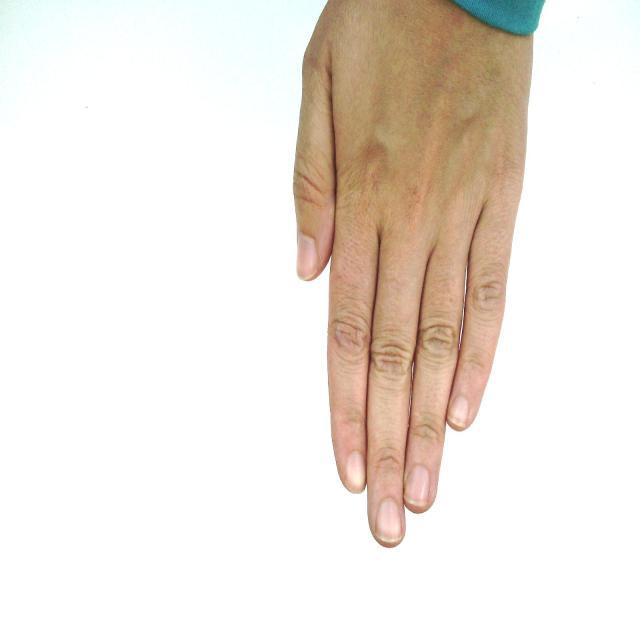Fingernail: (377, 499, 402, 542), (407, 465, 430, 505), (298, 235, 318, 279), (346, 453, 364, 491), (450, 397, 468, 425)
